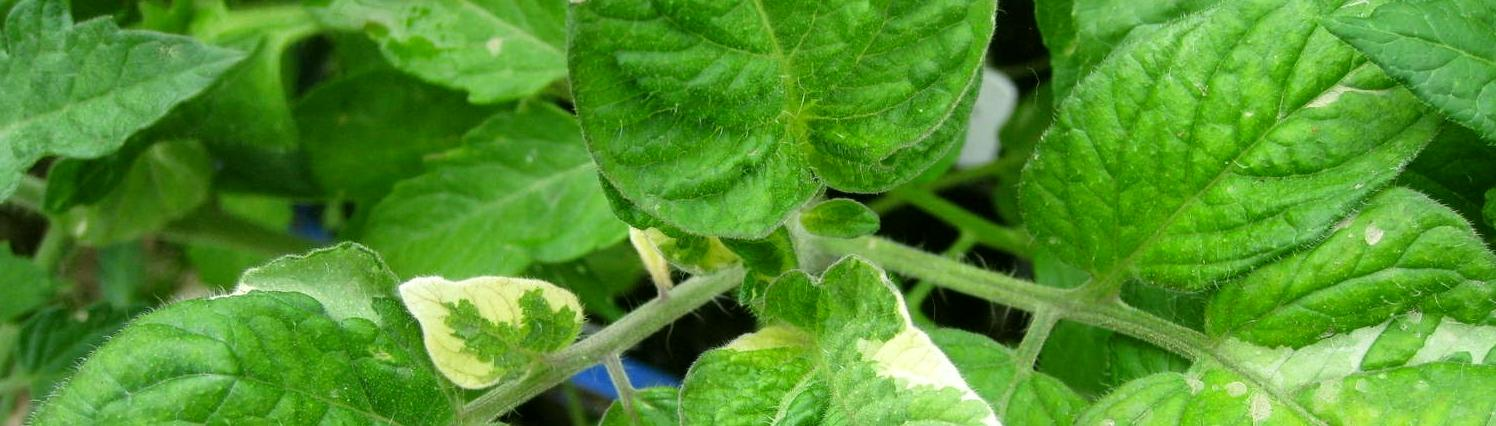Tomato leaf: (548, 0, 1009, 250), (1028, 0, 1433, 269), (0, 0, 254, 199)
